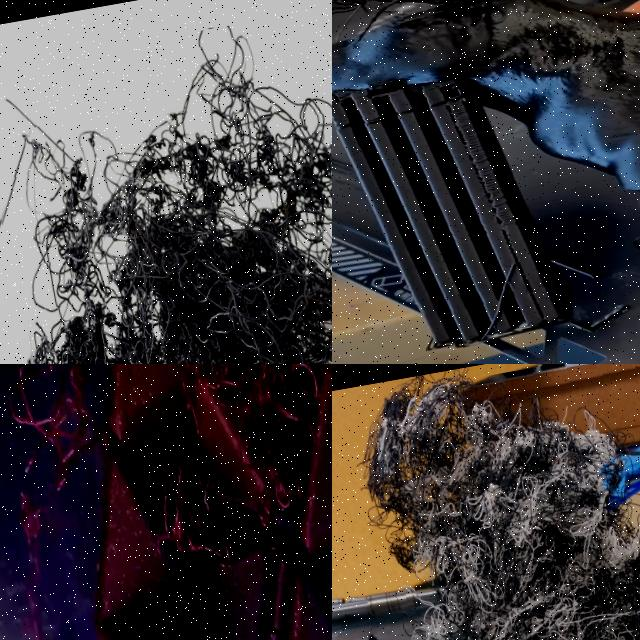spaghetti: (21, 25, 332, 364), (363, 381, 640, 640), (0, 364, 170, 640), (177, 364, 332, 577), (146, 455, 228, 573)
